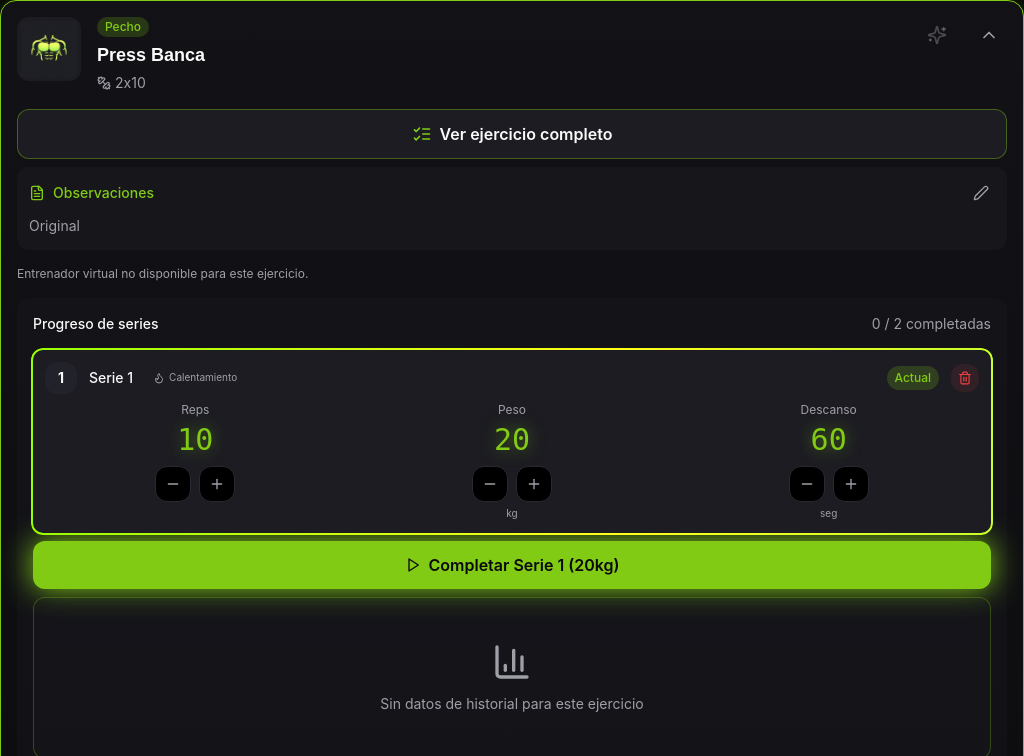
Test: Notas del ejercicio › cancelar no persiste nada
The image size is (1024, 756).
Click the button named "Editar nota" at (981, 193), box [967,179,995,207]
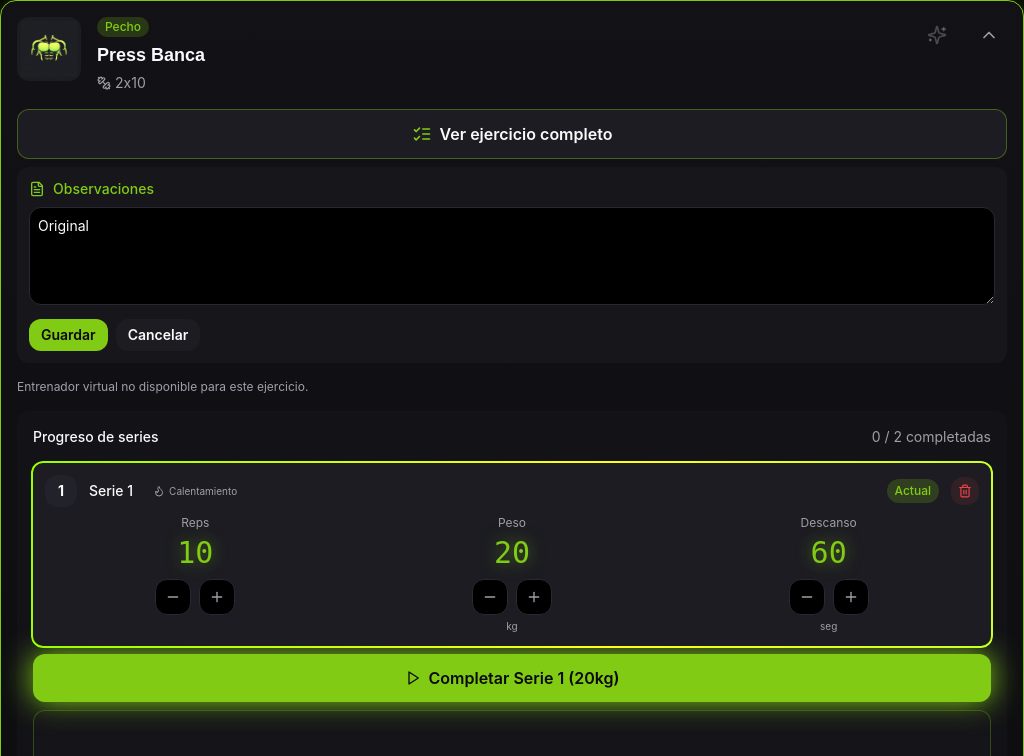
Replace the text in the text box named "Nota del ejercicio" with "Otra" at (512, 256), box [29,207,995,305]
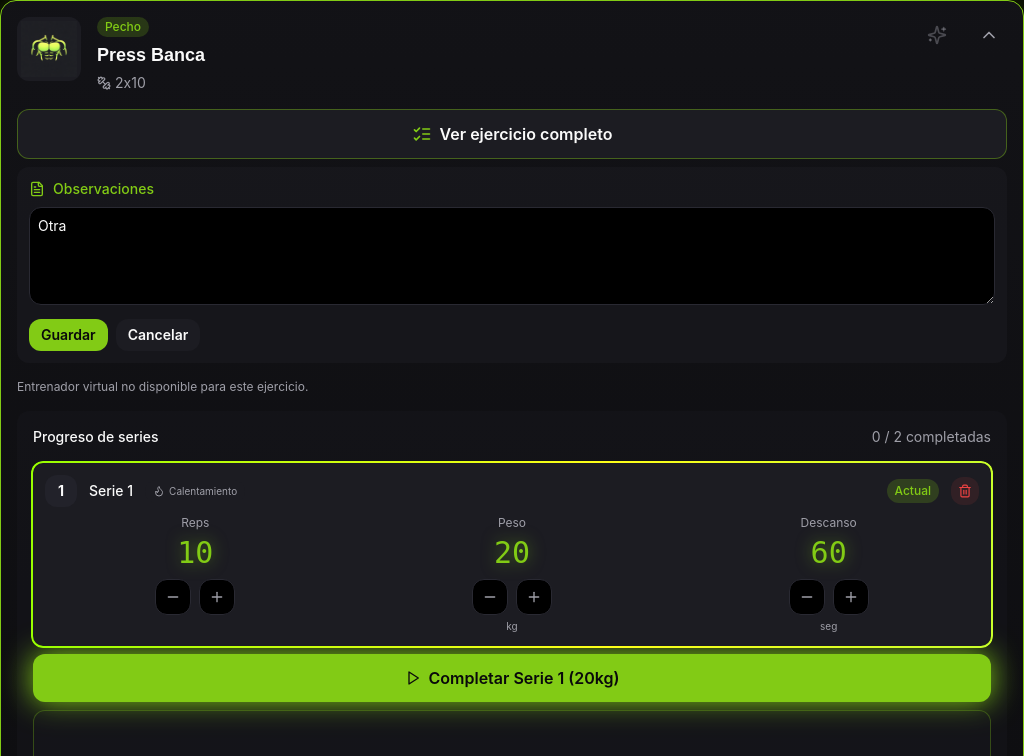
Click the button "Cancelar" at (158, 335), box [116,319,200,351]
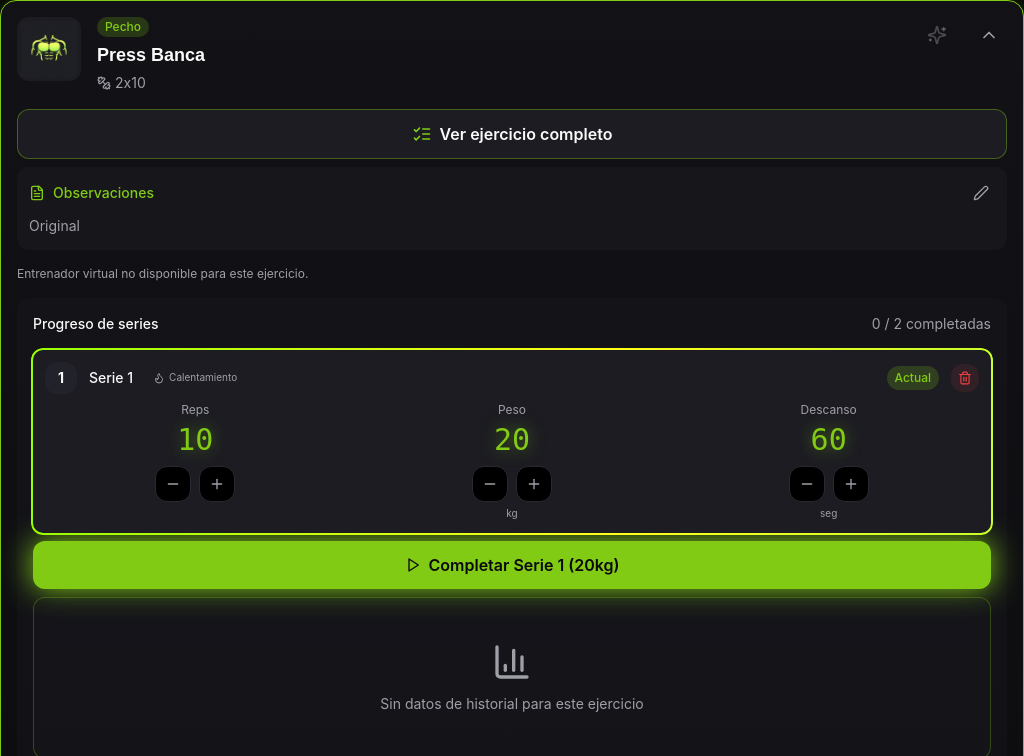
Check: the text "Original" is shown, box [29,217,80,234]
